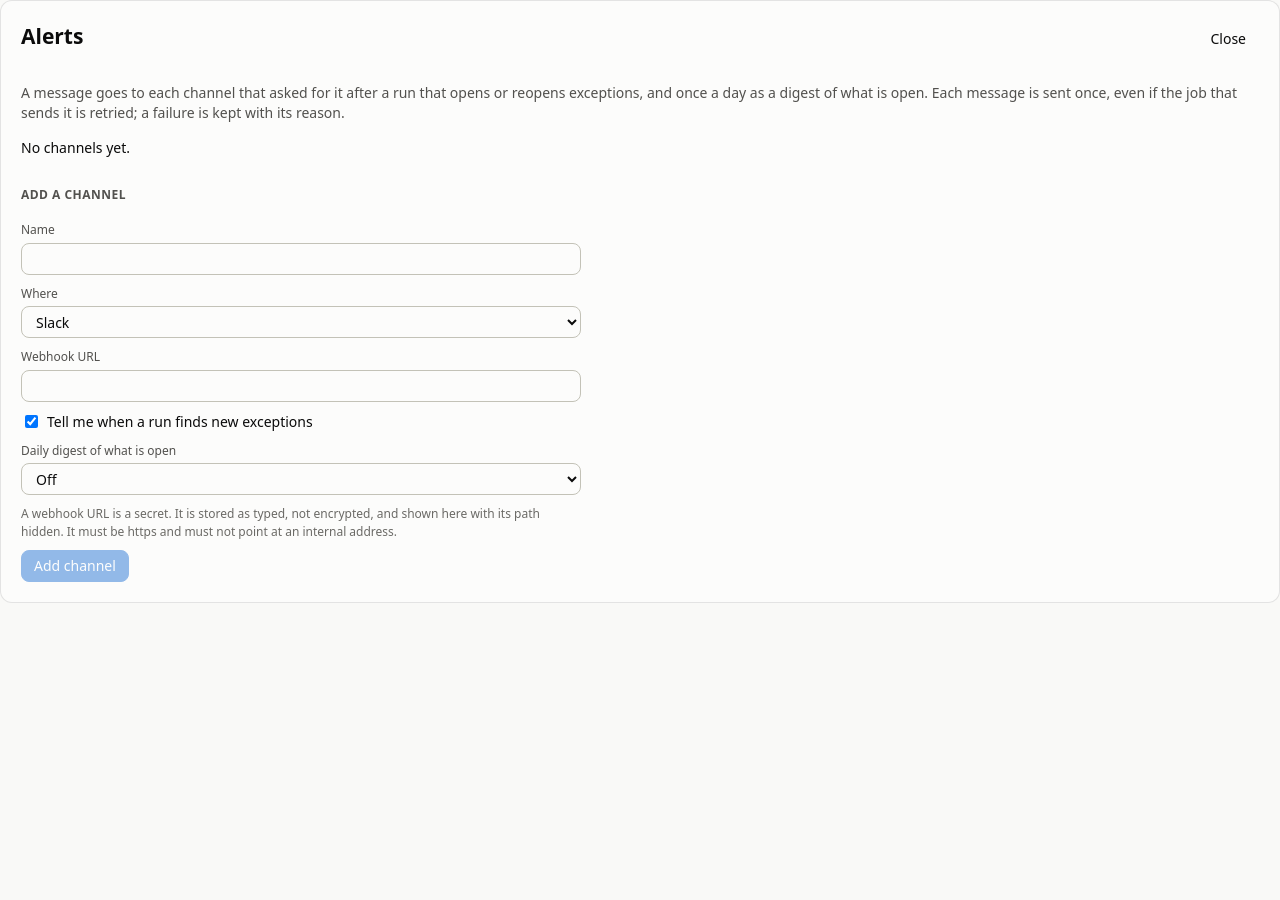
Scenario: Alerts › shows the server's reason when a channel is refused
This screenshot has width=1280, height=900.
Expected: the text "No channels yet." is shown, [21,138,130,157]
Type "ops" into the field labelled "Name" at {"x": 301, "y": 259}, box [21,243,581,275]
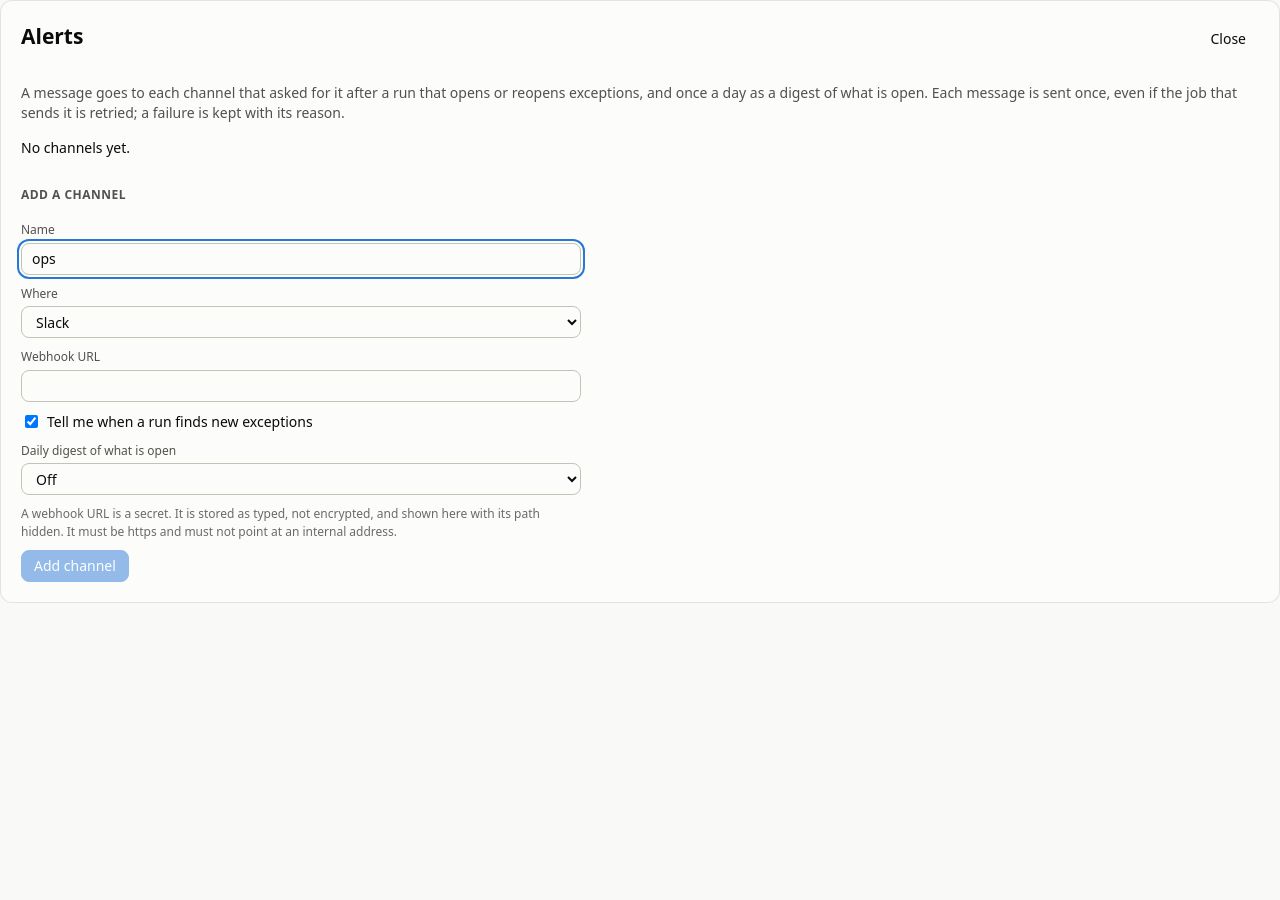
Type "https://x.example/hook" into the field labelled "Webhook URL" at {"x": 301, "y": 386}, box [21,370,581,402]
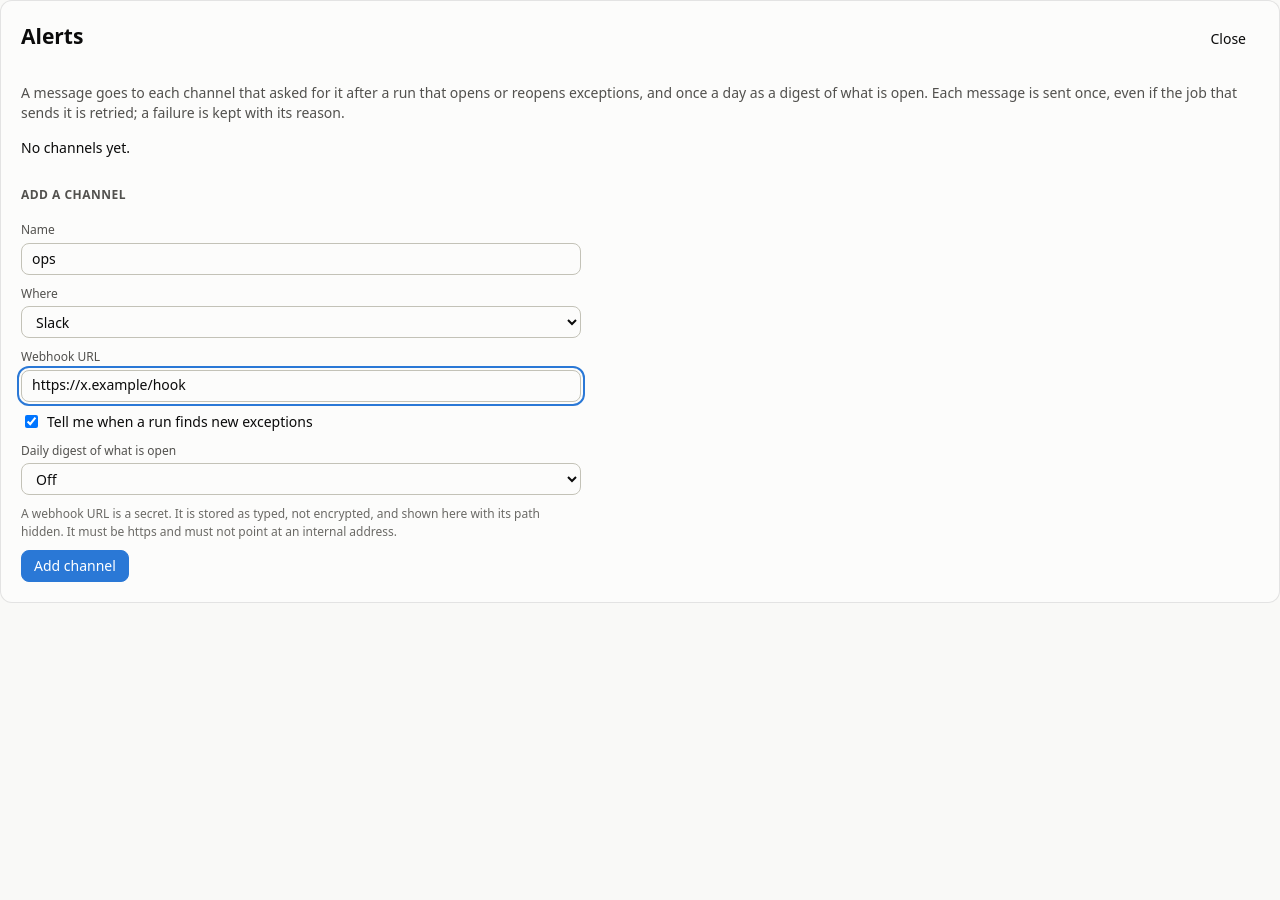
Click the button "Add channel" at {"x": 75, "y": 566}, box [21,550,129,582]
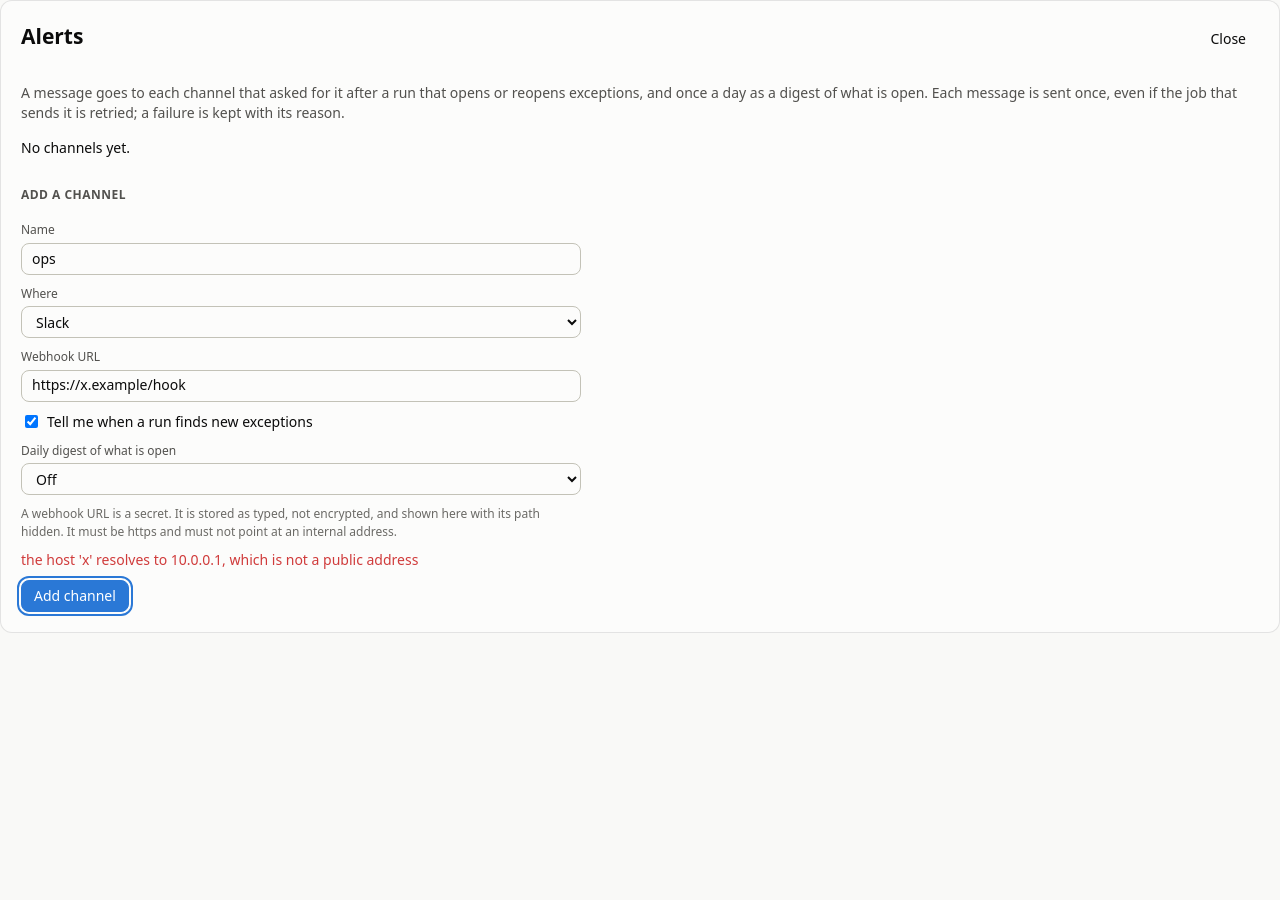
Expected: the message shows "not a public address", [21,550,418,569]
